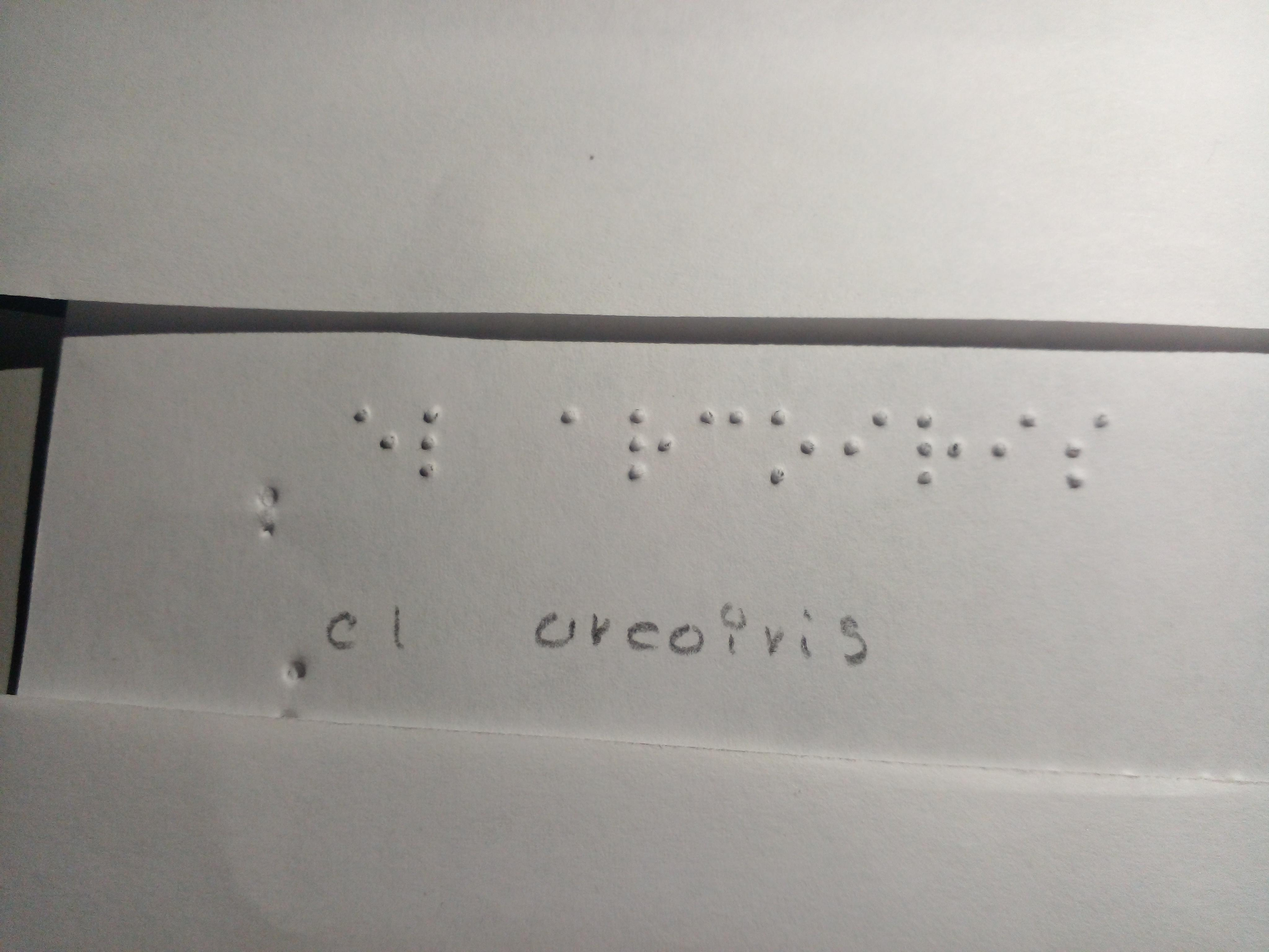a: (561, 398, 592, 452)
c: (692, 398, 753, 451)
el: (347, 398, 403, 468)
i: (979, 404, 1041, 468), (836, 398, 894, 466)
l: (414, 401, 455, 491)
o: (759, 397, 819, 487)
r: (613, 401, 677, 494), (902, 404, 968, 491)
s: (1056, 403, 1117, 499)
